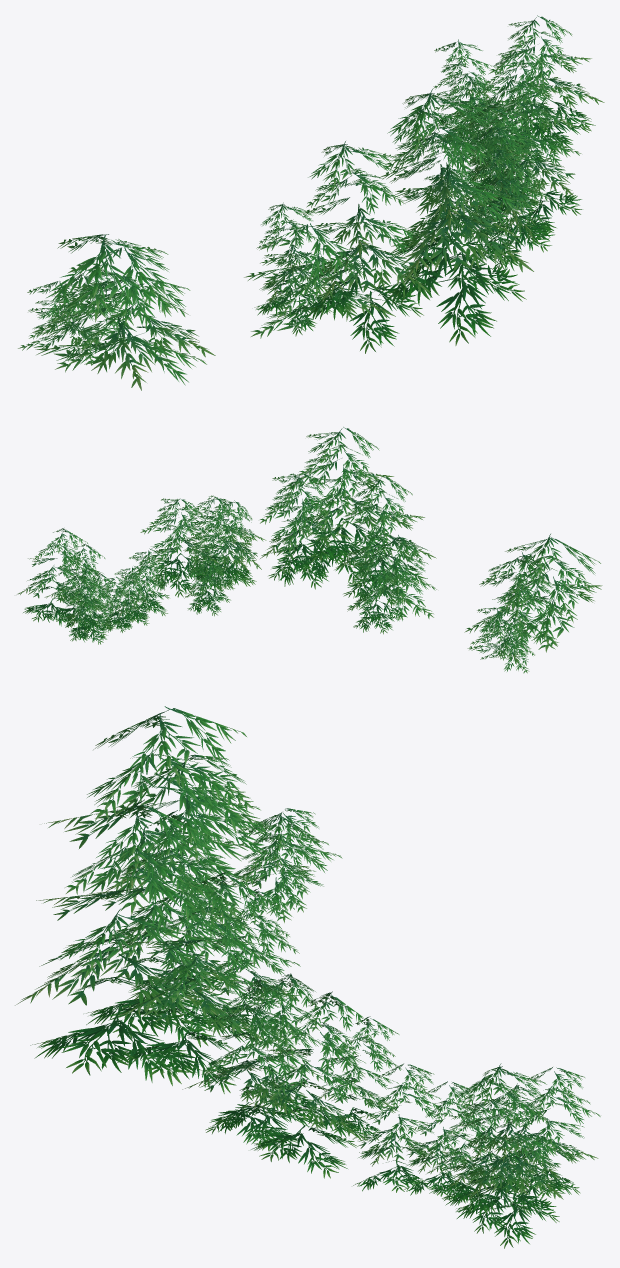
File: Area_10_18.fbx
The picture shows the model from 3 angles, top to bottom: view 1: azimuth 30°, elevation 25°; view 2: azimuth 150°, elevation 25°; view 3: azimuth 270°, elevation 25°; orthographic projection. The views are drawn at different scales.
Parts seen in each view (by area): view 1: Area_10_18; view 2: Area_10_18; view 3: Area_10_18.
Part boxes in pixels (x1=…): Area_10_18: x1=18, y1=15, x2=604, y2=390; Area_10_18: x1=17, y1=427, x2=602, y2=673; Area_10_18: x1=15, y1=706, x2=600, y2=1248.
Bounding box in the file's own units: 4755 × 1577 × 2929.
